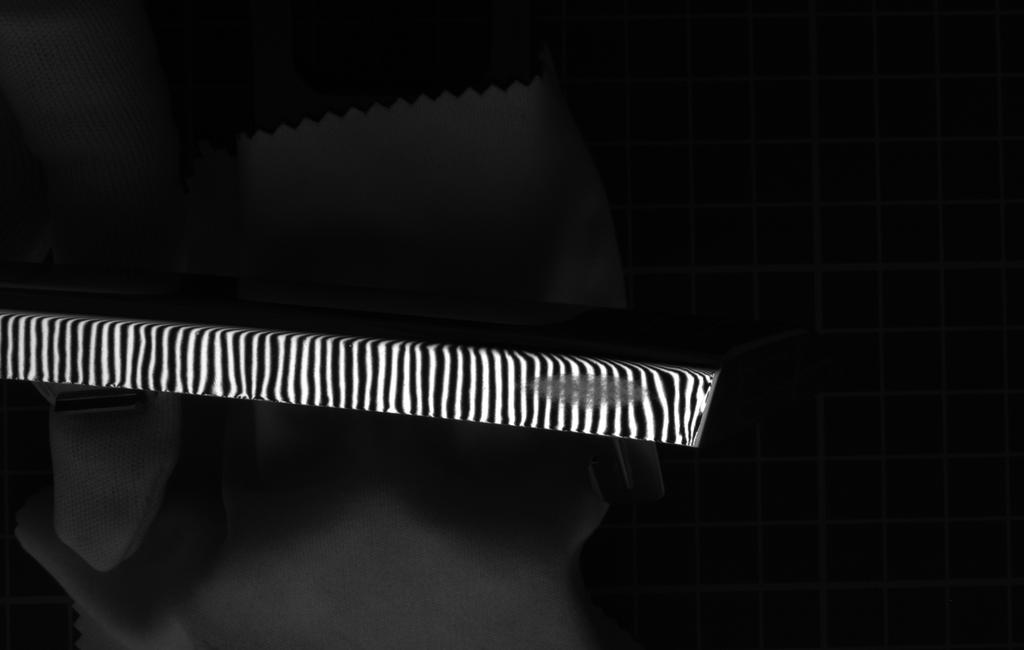Pitting: (495, 364, 669, 424)
